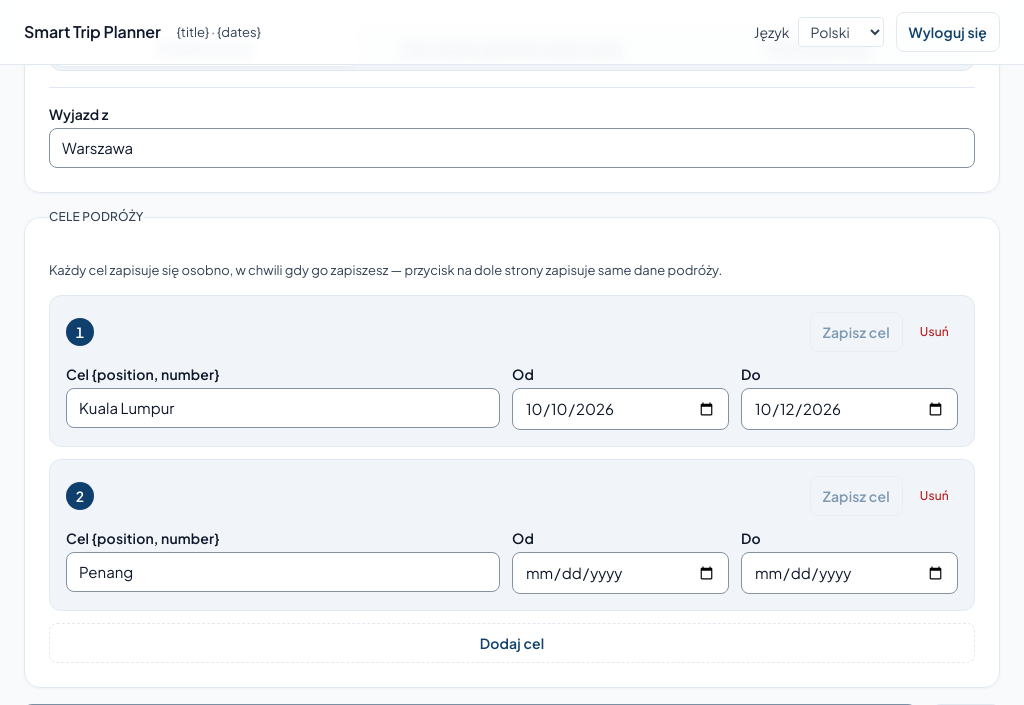
editing a base › refuses a base whose dates fall outside the trip, before sending anything
(page scrolled)
Expected: the 1st field showing "Kuala Lumpur" is shown, [66,388,500,428]
Type "2026-09-01" into the 1st date field labelled "Od" at (620, 409), box [512,388,729,430]
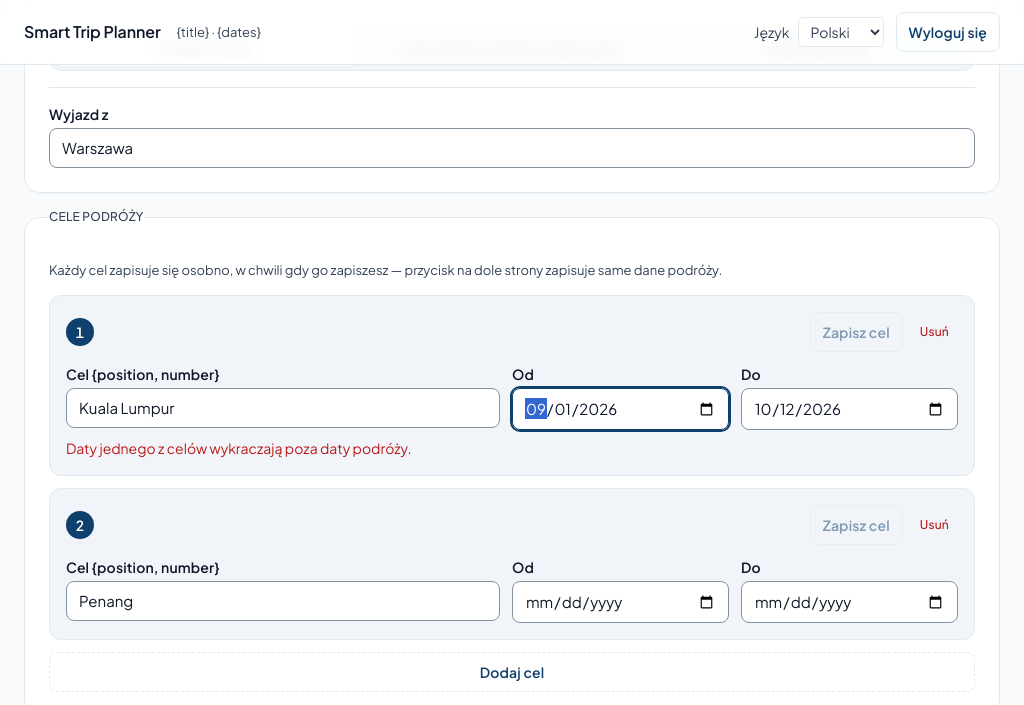
Expected: the 1st button "Zapisz cel" is disabled, [810,312,903,352]
Expected: the message shows "poza", [66,439,412,457]
